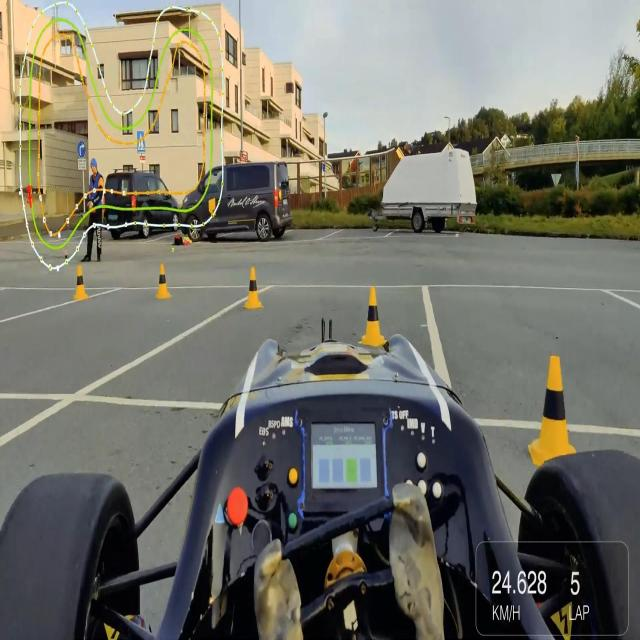yellow_cone: (533, 355, 576, 467), (356, 284, 388, 352), (244, 265, 263, 312), (154, 261, 172, 300), (74, 264, 90, 301)
